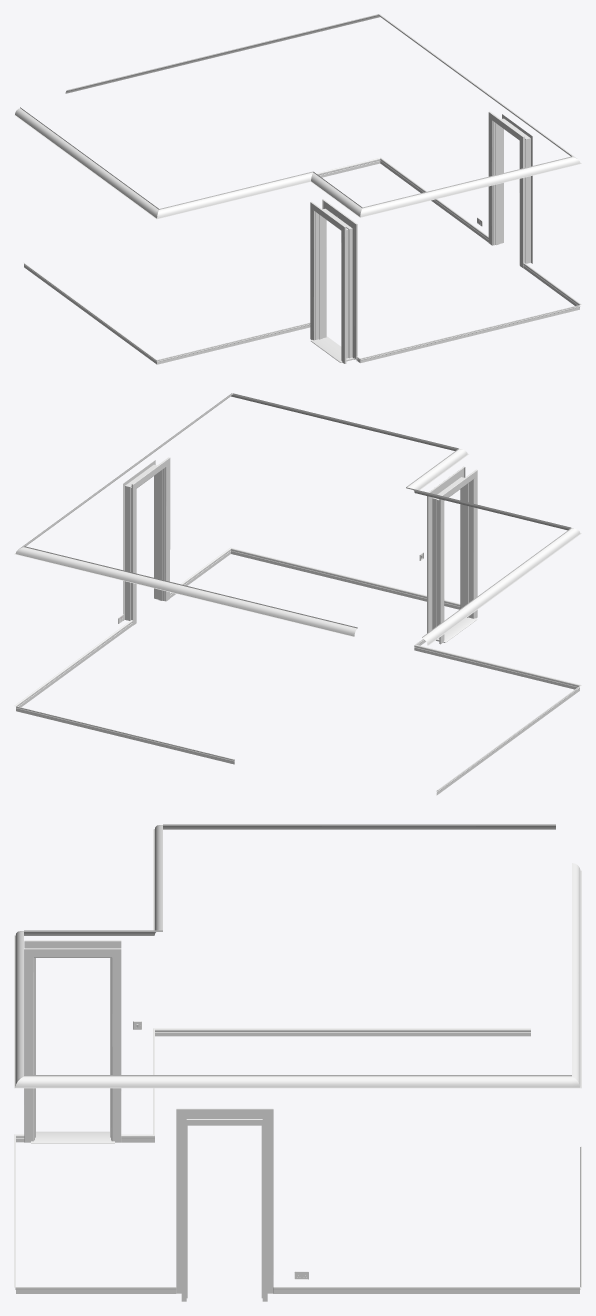
File: Bedroom_Trimming.FBX
3 renders of one model, top to bottom at view 1: azimuth 30°, elevation 25°; view 2: azimuth 150°, elevation 25°; view 3: azimuth 270°, elevation 25°, orthographic. The views are drawn at different scales.
Parts seen in each view (by area): view 1: Bedroom_Trimming; view 2: Bedroom_Trimming; view 3: Bedroom_Trimming.
Boxes of the visible parts, bbox=[...] form: Bedroom_Trimming: bbox=[14, 14, 581, 364]; Bedroom_Trimming: bbox=[14, 393, 581, 795]; Bedroom_Trimming: bbox=[14, 824, 581, 1301].
Bounding box in the file's own units: 636 × 240 × 574.
